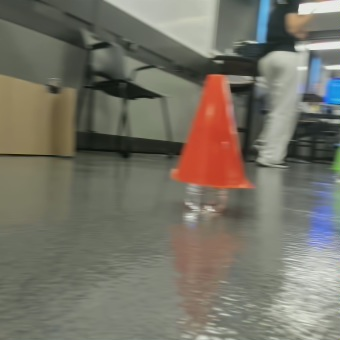Cone: (180, 70, 251, 181)
